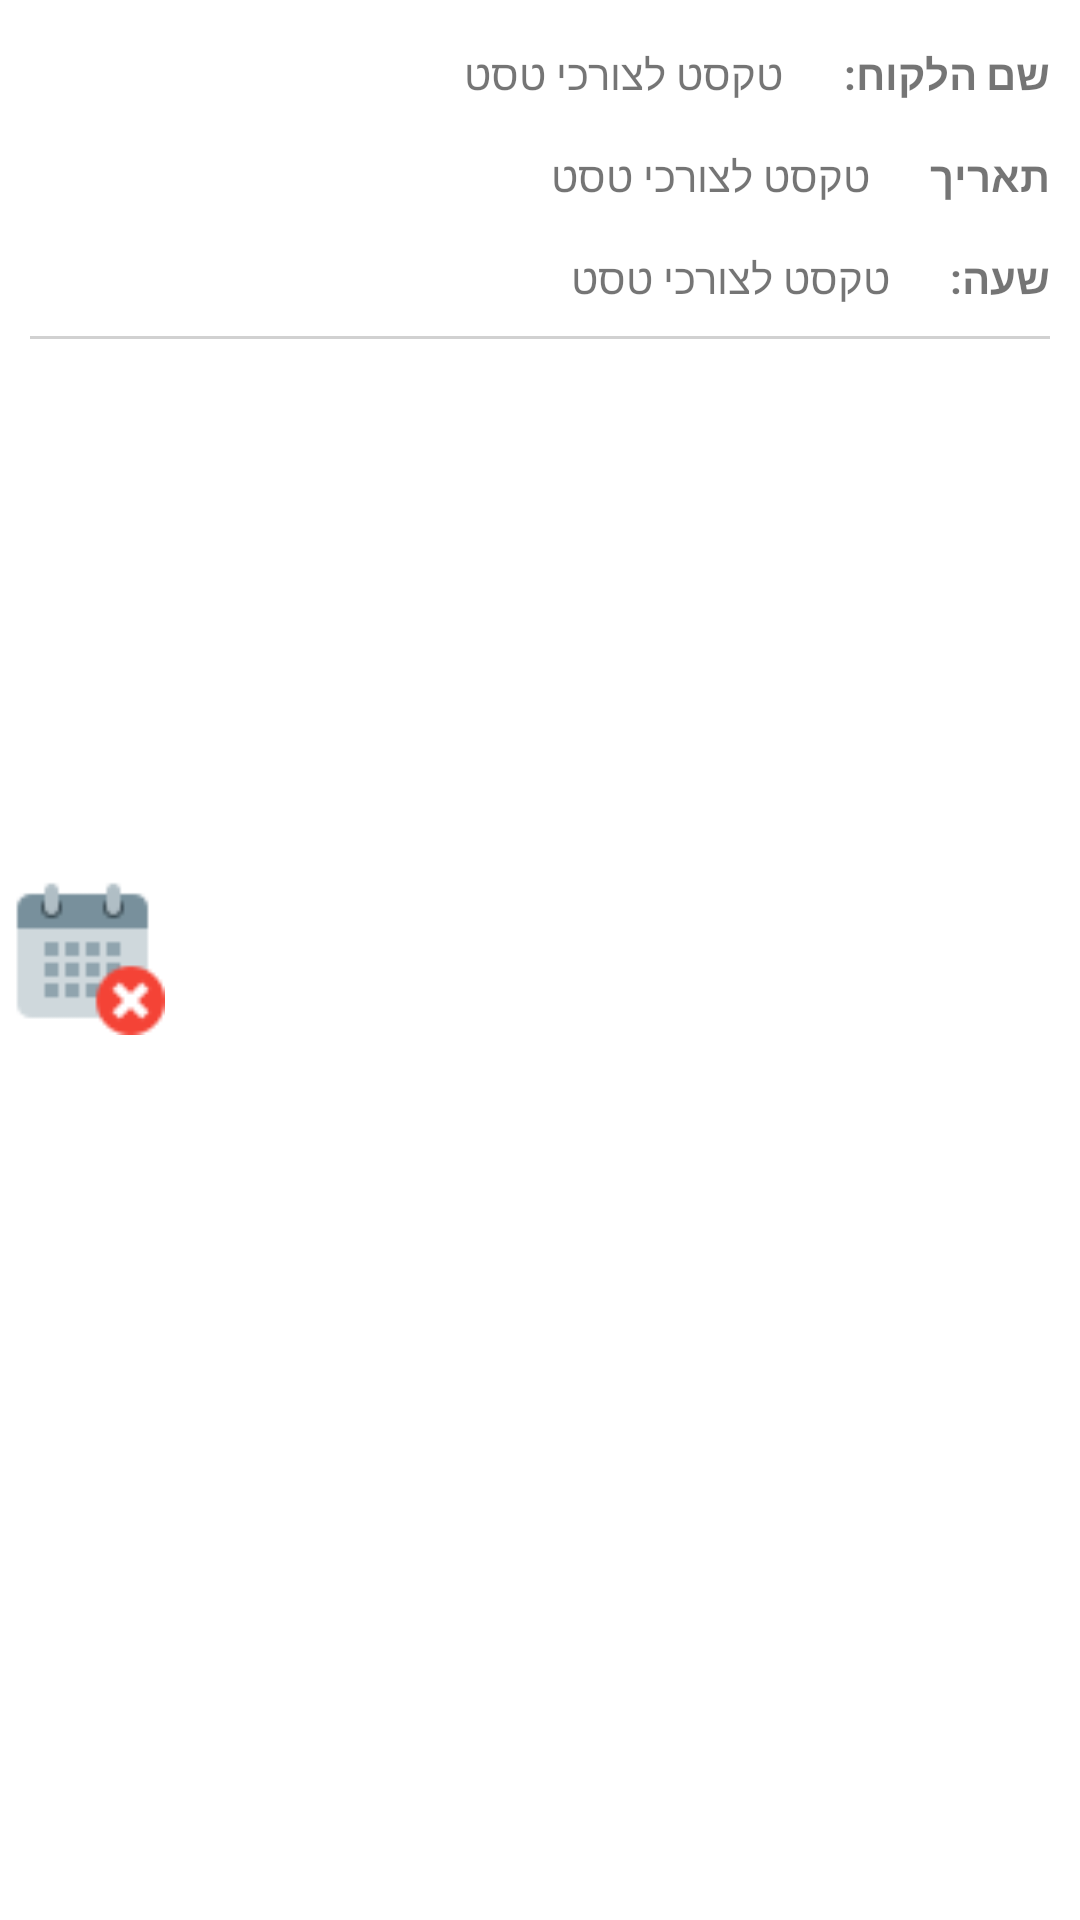

Icon click points for this 1080×1920 phone screenshot, format (x=x, y=y):
delete appoitment: (x=90, y=959)
